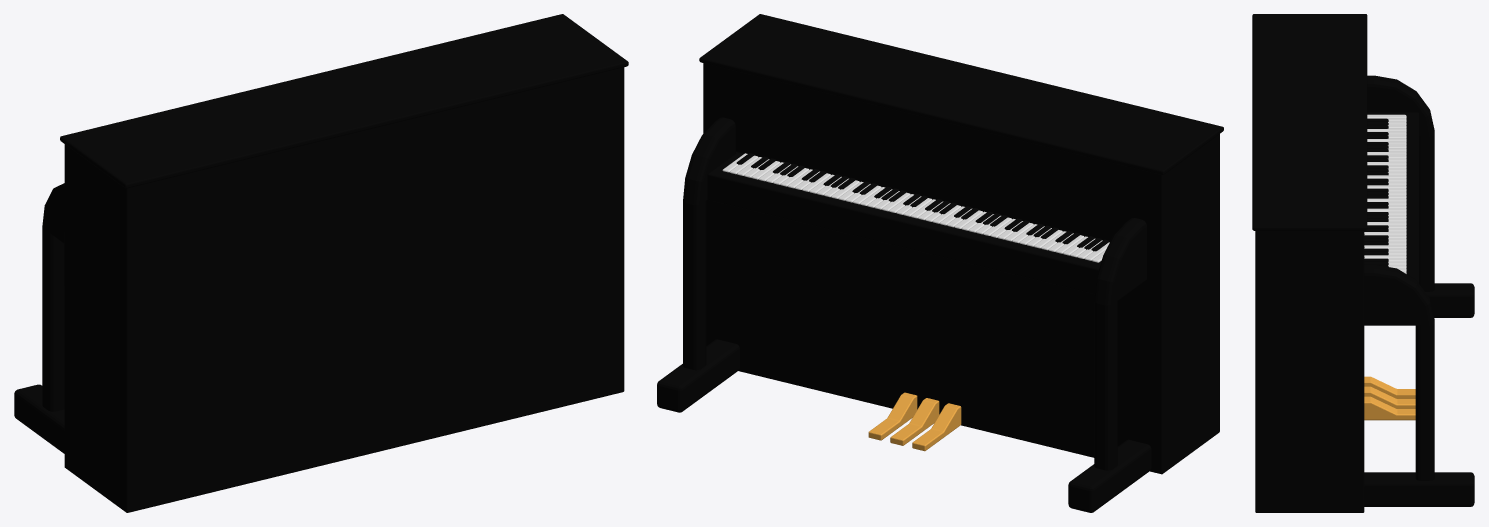
Rendered from Piano.fbx.
3 renders of one model, left to right at view 1: azimuth 30°, elevation 25°; view 2: azimuth 150°, elevation 25°; view 3: azimuth 270°, elevation 25°, orthographic. The views are drawn at different scales.
Parts seen in each view (by area): view 1: Piano; view 2: Piano; view 3: Piano.
Boxes of the visible parts, <box> form: Piano: <box>14,14,628,512</box>; Piano: <box>657,14,1223,512</box>; Piano: <box>1252,14,1474,512</box>.
Bounding box in the file's own units: 196 × 123 × 86.09.
